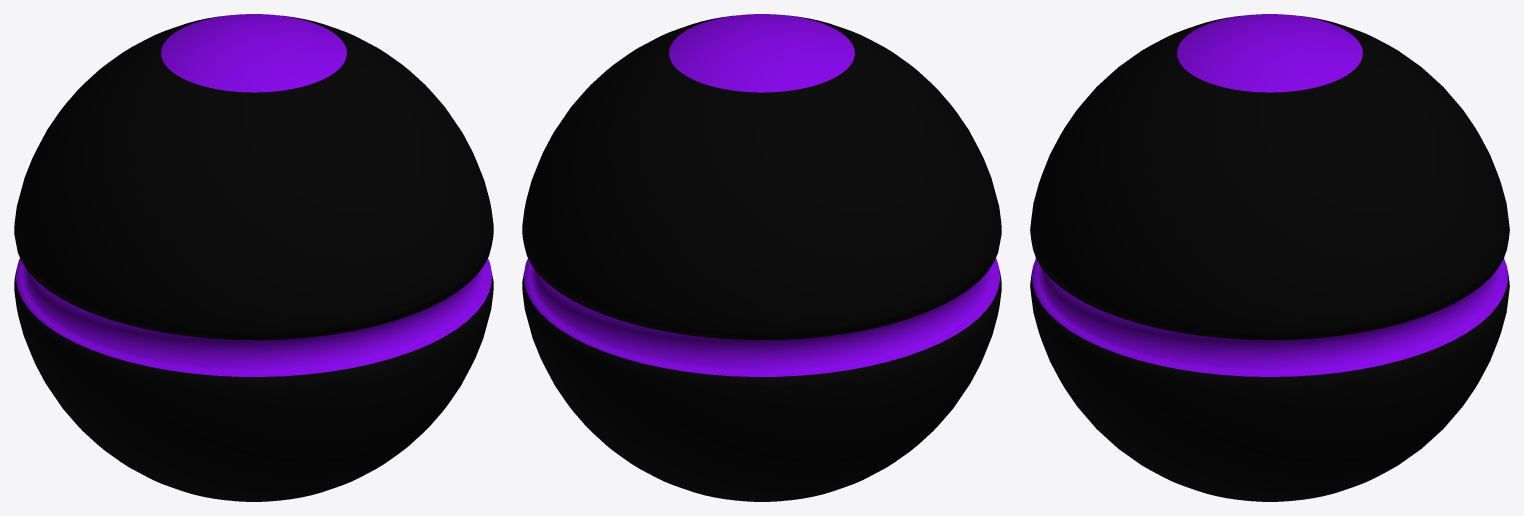
The model's file is tball2.fbx.
The picture shows the model from 3 angles, left to right: view 1: azimuth 30°, elevation 25°; view 2: azimuth 150°, elevation 25°; view 3: azimuth 270°, elevation 25°; orthographic projection.
Parts seen in each view (by area): view 1: Sphere.001; view 2: Sphere.001; view 3: Sphere.001.
Part boxes in pixels (x1,y1,x2,y2): Sphere.001: (14,14,493,501); Sphere.001: (522,14,1001,501); Sphere.001: (1030,14,1509,501).
Bounding box in the file's own units: 195 × 200 × 195.
